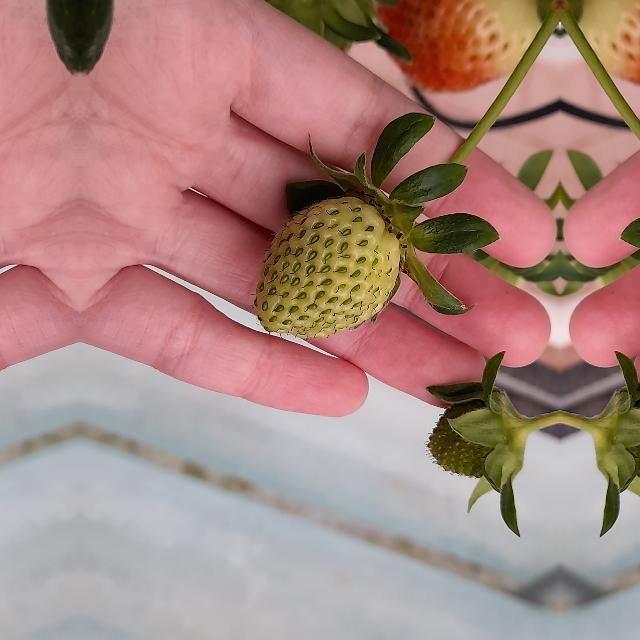Health_25: (253, 196, 401, 338)
